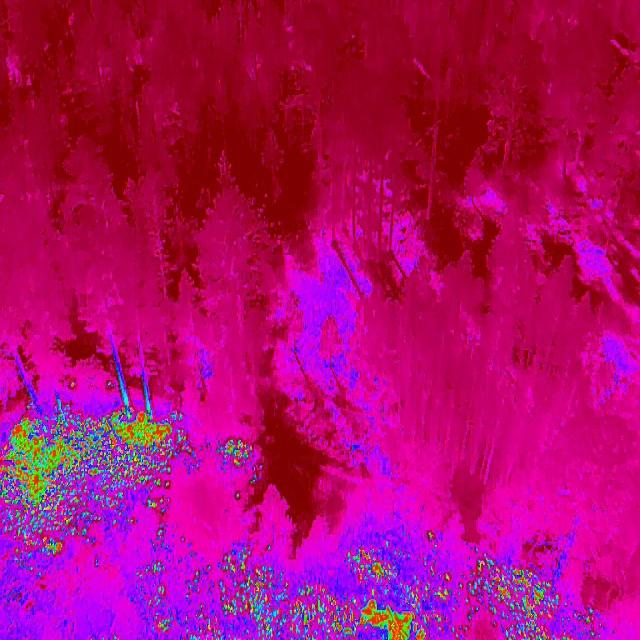fire: (119, 531, 606, 640), (0, 388, 195, 574), (210, 432, 265, 486)
